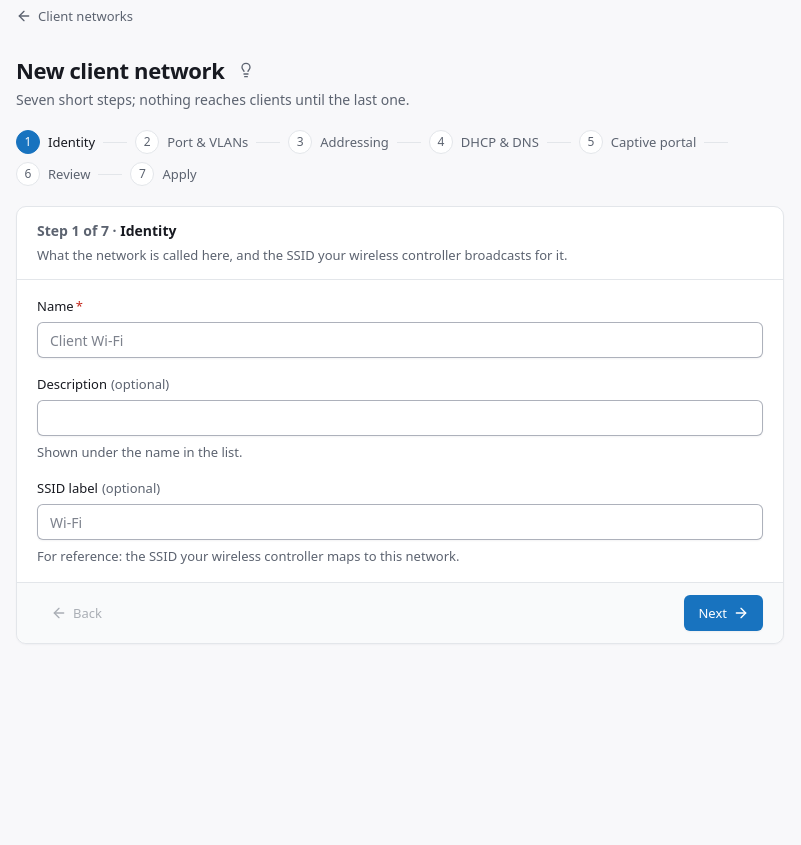
Test: New client network: one wizard for one network or a whole trunk › shows what the chosen port already carries, and refuses a second untagged network on it
Step 1. Type "Extensions" into the field labelled "Name*" → (400,340), box [37,322,763,358]
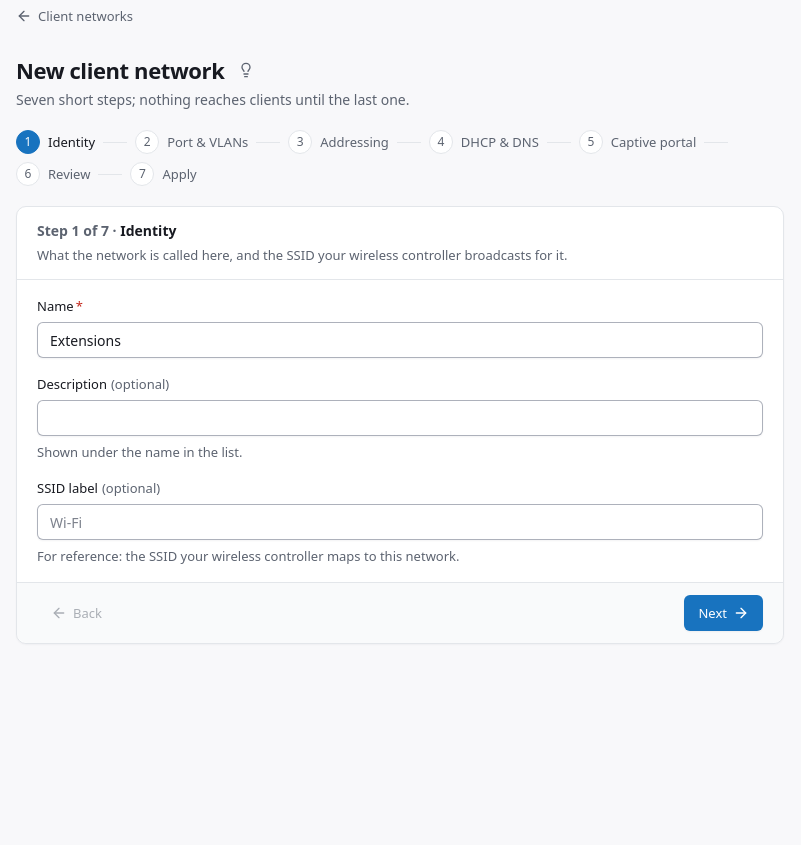
Step 2. Click the button "Next" → (724,613), box [684,595,763,631]
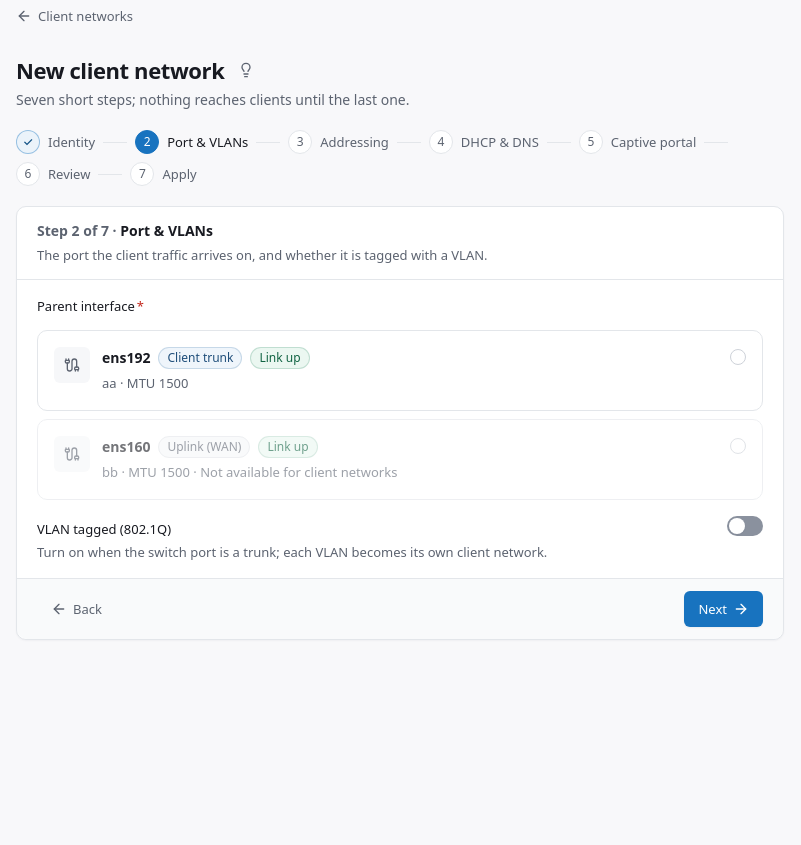
Result: the radio button labelled "ens192 Client trunk Link up aa · MTU 1500" is shown
Step 3. Click the radio button labelled "ens192 Client trunk Link up aa · MTU 1500" → (72,365), box [37,330,763,411]
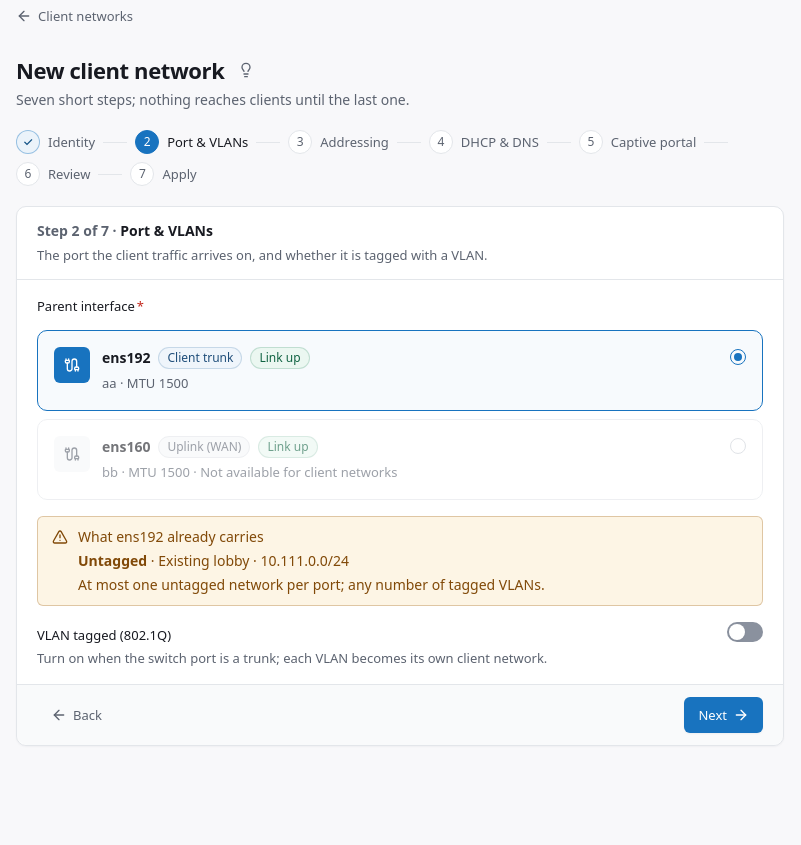
Result: the text "What ens192 already carries" is shown at [78,527,264,546]
Result: the list item "Untagged · Existing lobby · 10.111.0.0/24" is shown at [78,551,349,570]
Step 4. Click the button "Next" → (724,715), box [684,697,763,733]
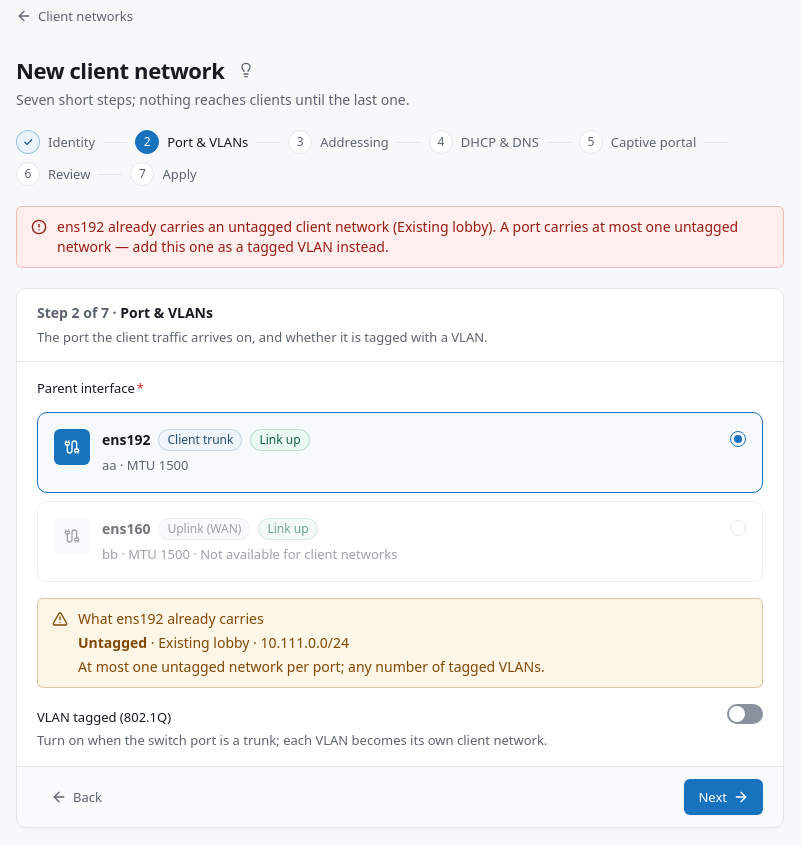
Result: the 1st message shows "already carries an untagged client network" at [57,217,738,256]
